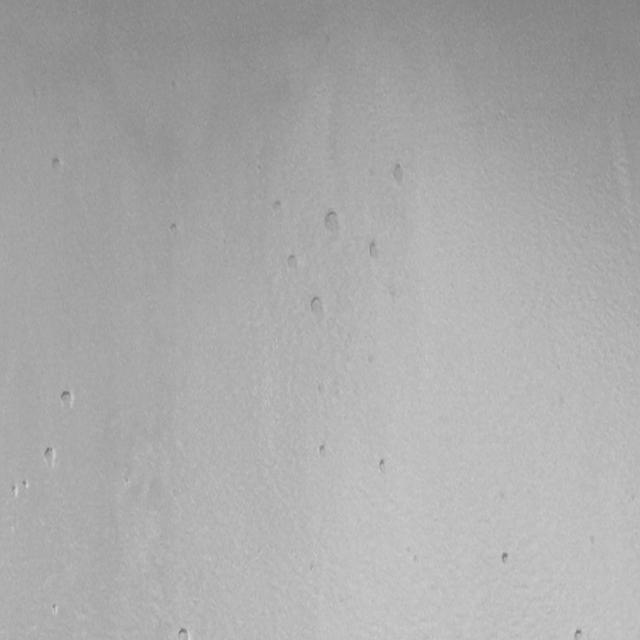pin holes: (319, 207, 346, 241), (391, 160, 412, 187), (49, 154, 68, 181), (308, 294, 328, 319), (364, 239, 384, 263), (282, 250, 302, 274), (39, 444, 58, 469), (57, 390, 76, 413), (374, 454, 393, 477), (315, 442, 331, 461), (500, 550, 515, 569), (167, 220, 182, 238), (271, 197, 286, 214), (50, 601, 62, 619), (174, 626, 190, 639), (572, 626, 587, 639), (9, 482, 20, 499), (21, 478, 32, 493)
